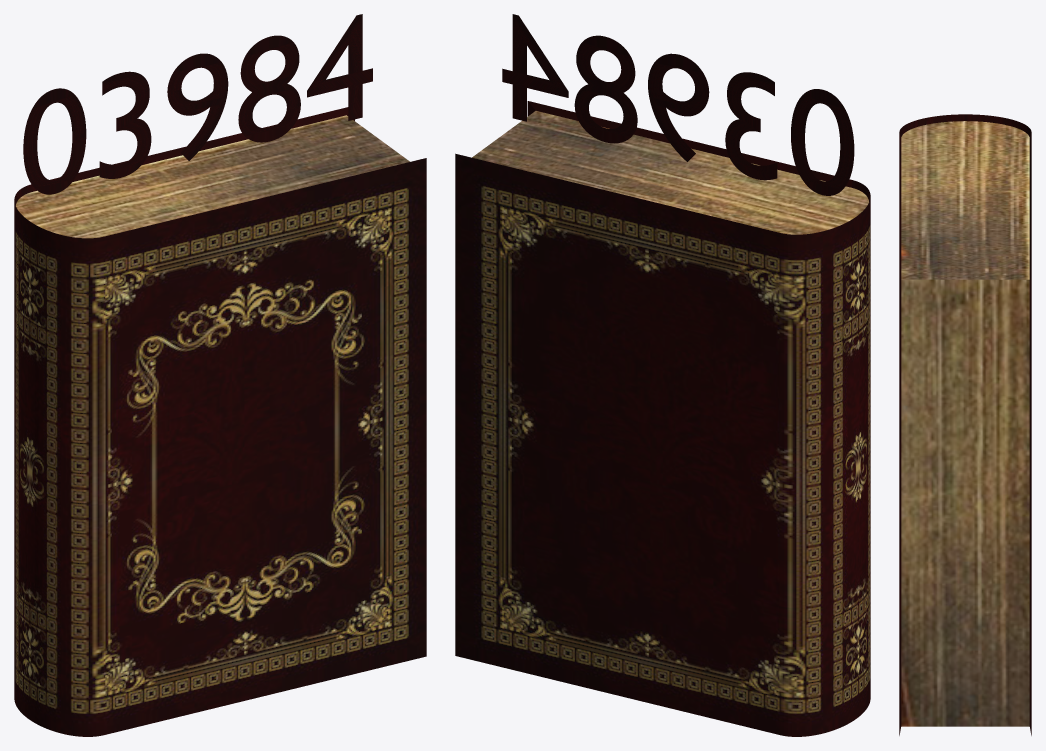
3 views of the same model, side by side, from view 1: azimuth 30°, elevation 25°; view 2: azimuth 150°, elevation 25°; view 3: azimuth 270°, elevation 25° (orthographic). The views are drawn at different scales.
Parts seen in each view (by area): view 1: Text; view 2: Text; view 3: Text.
Part boxes in pixels (x1,y1,x2,y2): Text: [14, 14, 426, 736]; Text: [455, 14, 870, 736]; Text: [899, 114, 1031, 735].
Size of the model in its own units: 2.54 by 4.13 by 0.8672.
2 materials, 2 textured.
